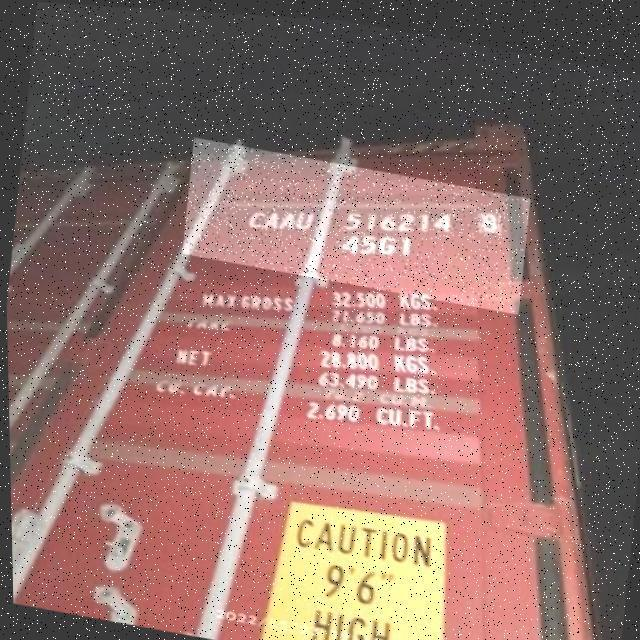container_number_h: (179, 134, 531, 309)
